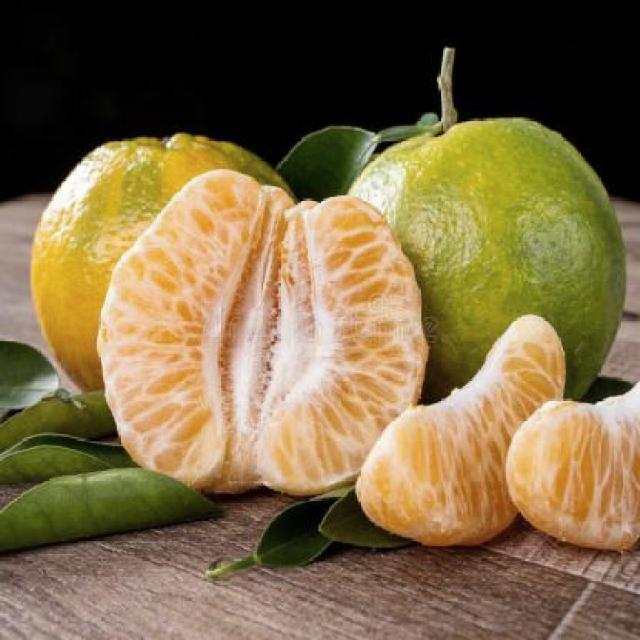Jeruk Sudah Matang: (323, 121, 623, 434), (35, 132, 292, 414)
